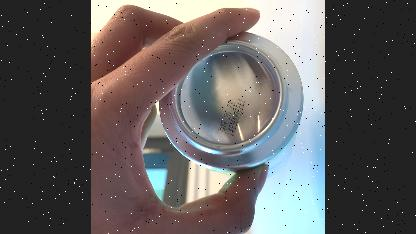Can: (160, 19, 310, 175)
